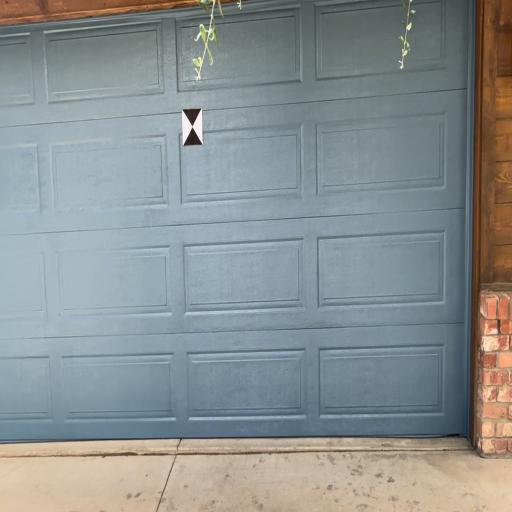target: (182, 109, 204, 143)
